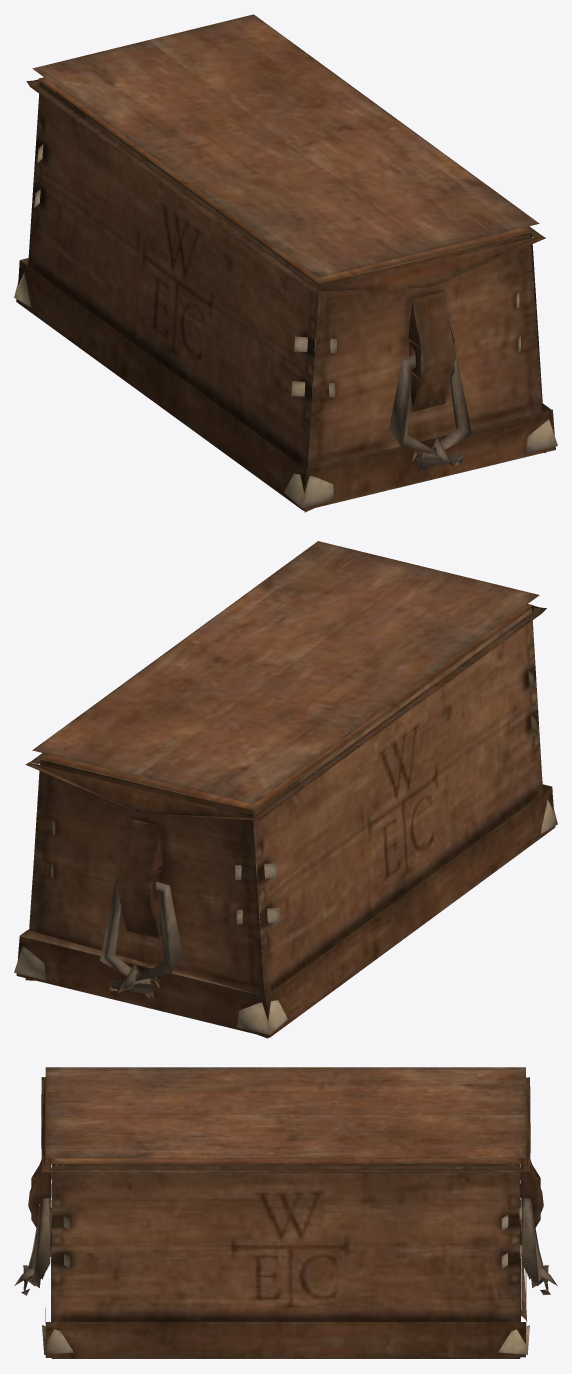
The model's file is caixote.glb.
3 renders of one model, top to bottom at view 1: azimuth 30°, elevation 25°; view 2: azimuth 150°, elevation 25°; view 3: azimuth 270°, elevation 25°, orthographic. The views are drawn at different scales.
Visible parts, largest first — view 1: Malha; view 2: Malha; view 3: Malha.
Part boxes in pixels (x1,y1,x2,y2): Malha: (14,14,557,512); Malha: (14,541,557,1038); Malha: (14,1067,557,1358).
Size of the model in its own units: 0.5283 by 0.4623 by 1.16.
Materials: 1 (1 with a texture image).
